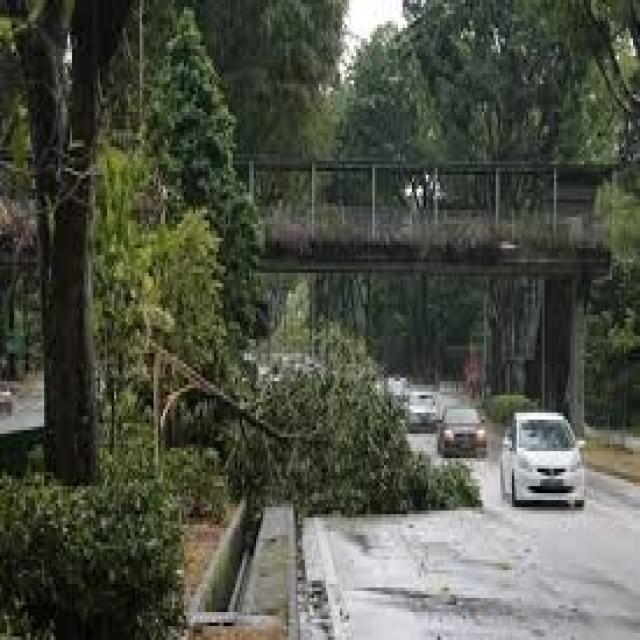fallen_object: (152, 322, 489, 522)
